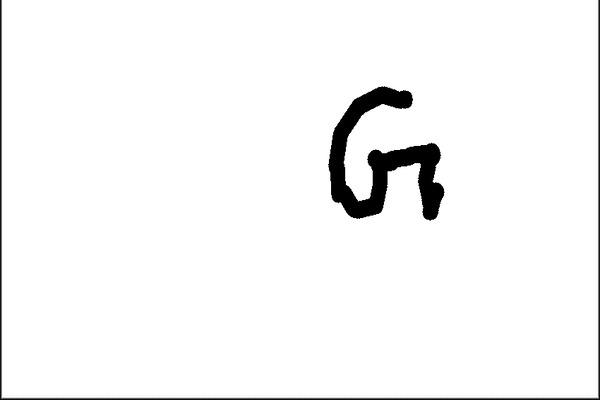G: (326, 81, 447, 223)
